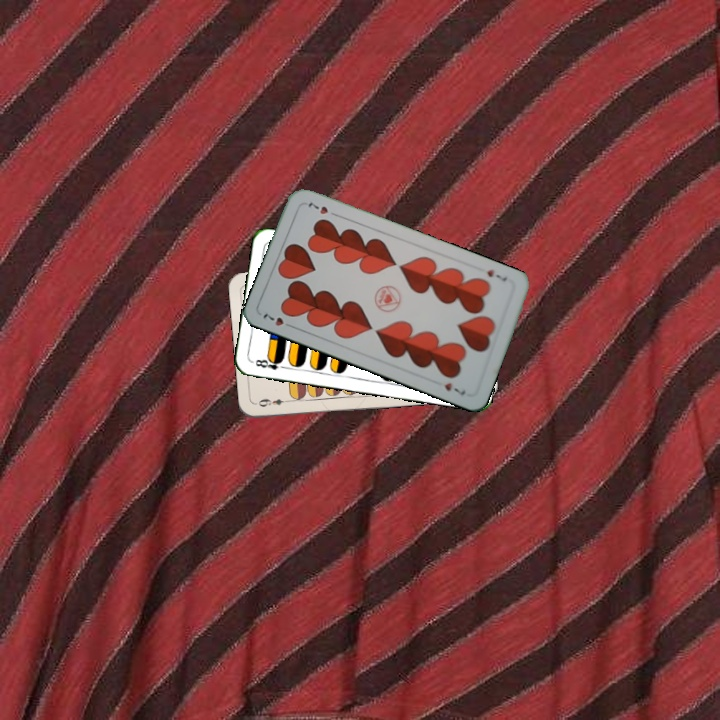E8: (251, 354, 289, 372)
E9: (253, 395, 293, 410)
H7: (259, 309, 297, 331), (483, 265, 510, 284)
